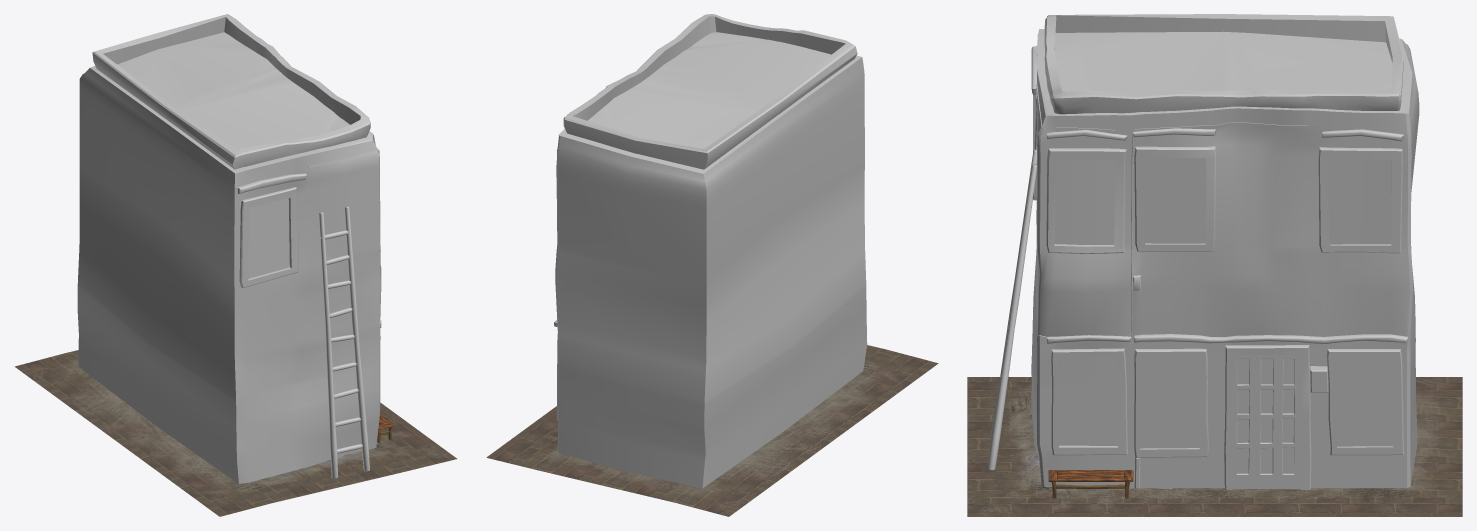
The model's file is Small_old_house.obj.
The picture shows the model from 3 angles, left to right: view 1: azimuth 30°, elevation 25°; view 2: azimuth 150°, elevation 25°; view 3: azimuth 270°, elevation 25°; orthographic projection. The views are drawn at different scales.
Visible parts, largest first — view 1: Small_old_house, ground, ladder; view 2: Small_old_house, ground; view 3: Small_old_house, ground, ladder, Bench.
Part boxes in pixels (bbox=[...]): Small_old_house: bbox=[77, 14, 381, 484]; ground: bbox=[14, 350, 456, 516]; ladder: bbox=[319, 206, 370, 478]; Small_old_house: bbox=[554, 14, 867, 488]; ground: bbox=[486, 345, 938, 516]; Small_old_house: bbox=[1031, 14, 1419, 489]; ground: bbox=[967, 377, 1462, 516]; ladder: bbox=[988, 149, 1036, 470]; Bench: bbox=[1048, 470, 1133, 498].
Size of the model in its own units: 4.25 by 5.58 by 6.35.
